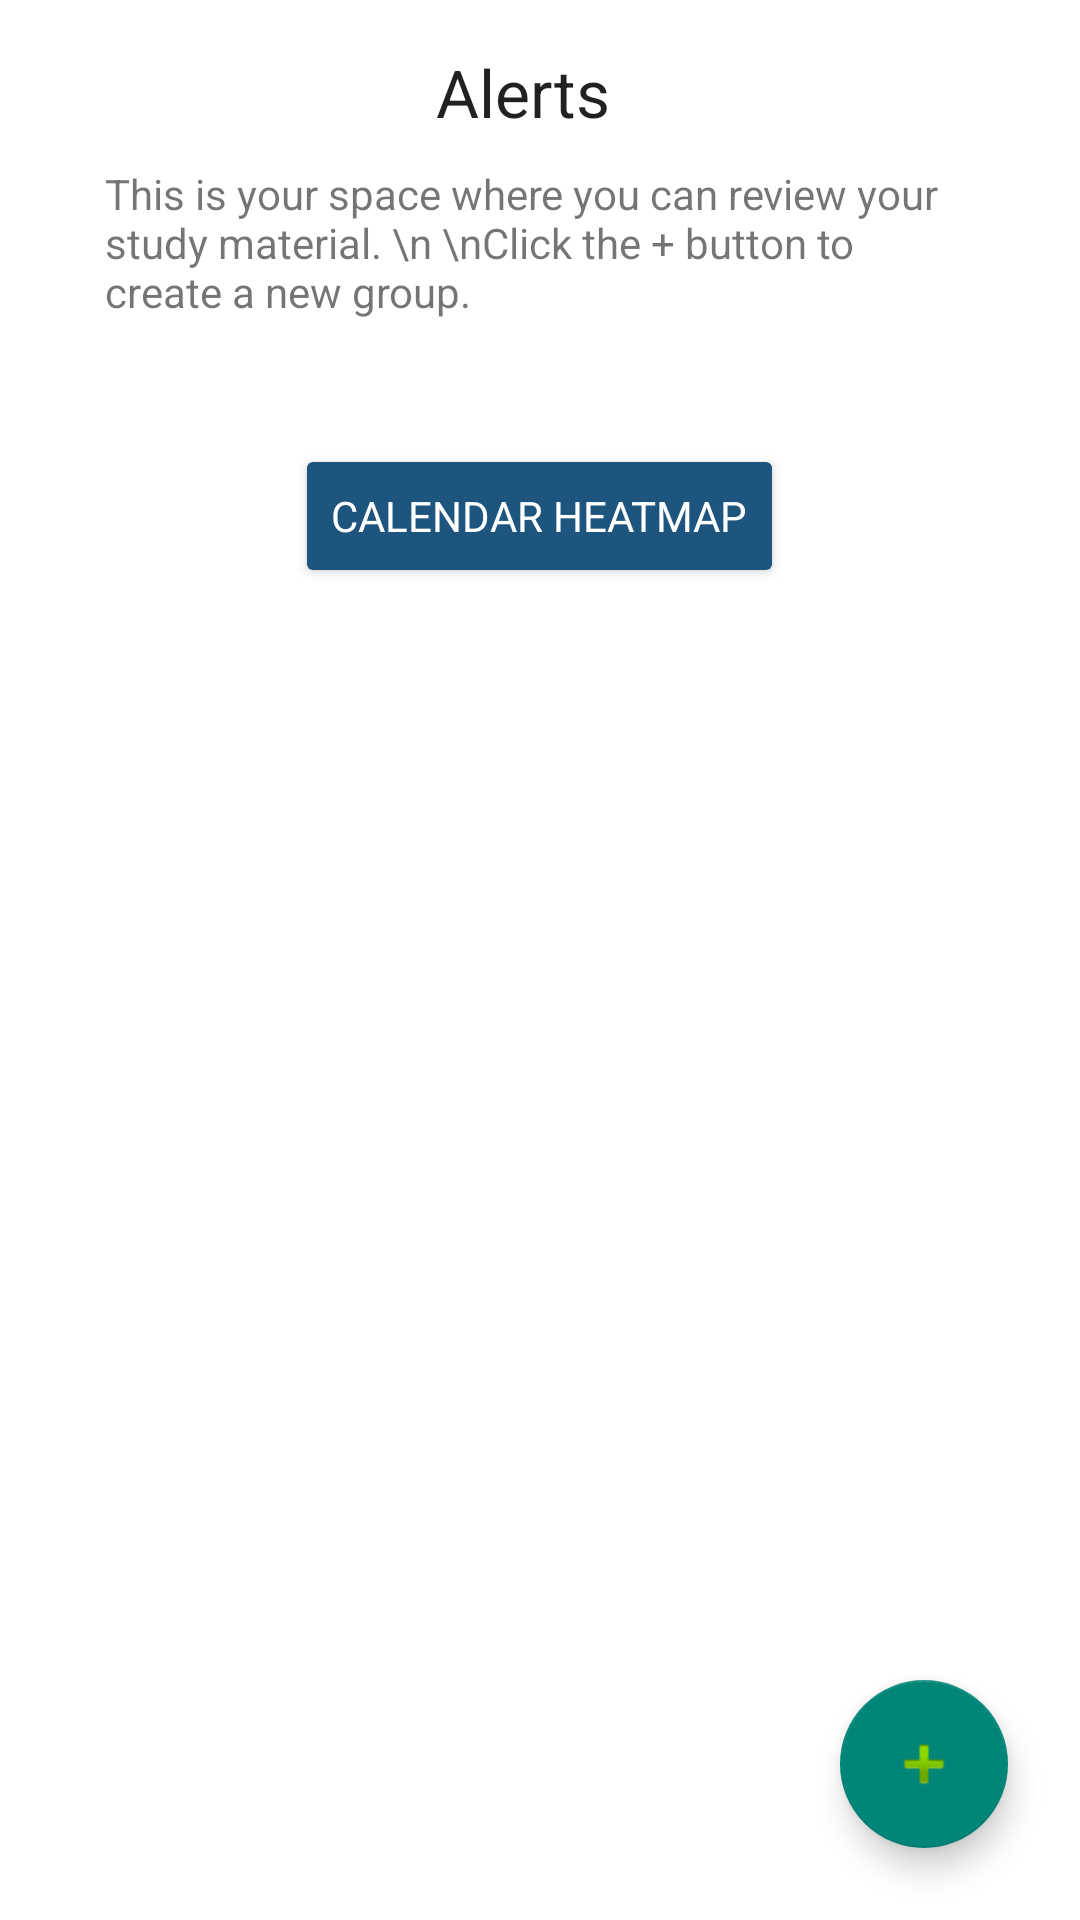

Where to tap for icons on this 1080px x 1920px app screen, as point (x, y):
Add Post: point (924, 1764)
